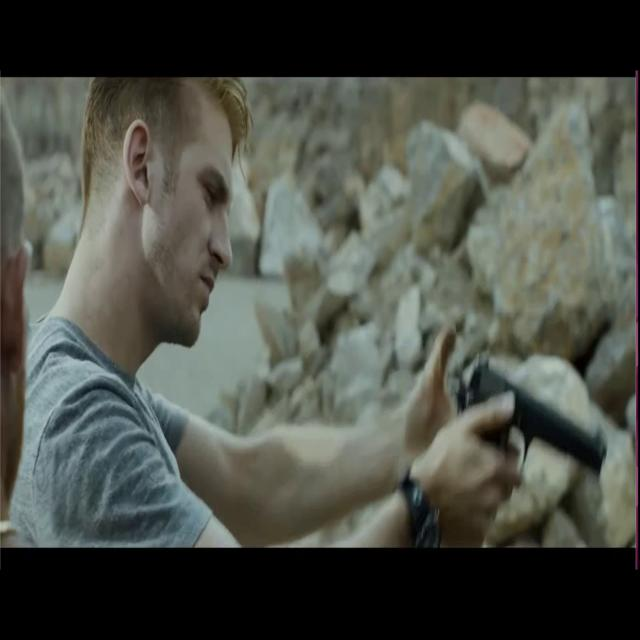weapons: (442, 335, 610, 524)
